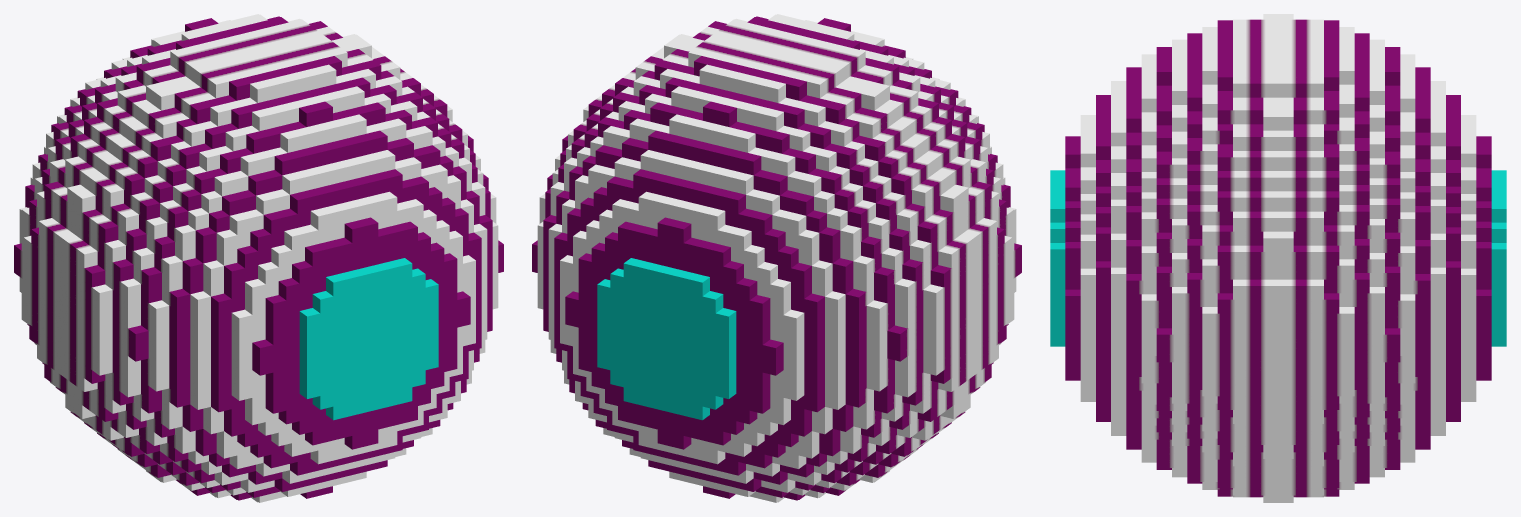
Rendered from Character_9.fbx.
3 views of the same model, side by side, from view 1: azimuth 30°, elevation 25°; view 2: azimuth 150°, elevation 25°; view 3: azimuth 270°, elevation 25° (orthographic).
Parts seen in each view (by area): view 1: Character_9; view 2: Character_9; view 3: Character_9.
Boxes of the visible parts, <box> form: Character_9: <box>14,14,503,502</box>; Character_9: <box>532,14,1021,502</box>; Character_9: <box>1050,14,1506,502</box>.
Bounding box in the file's own units: 30 × 30 × 30.
1 material, 1 textured.
